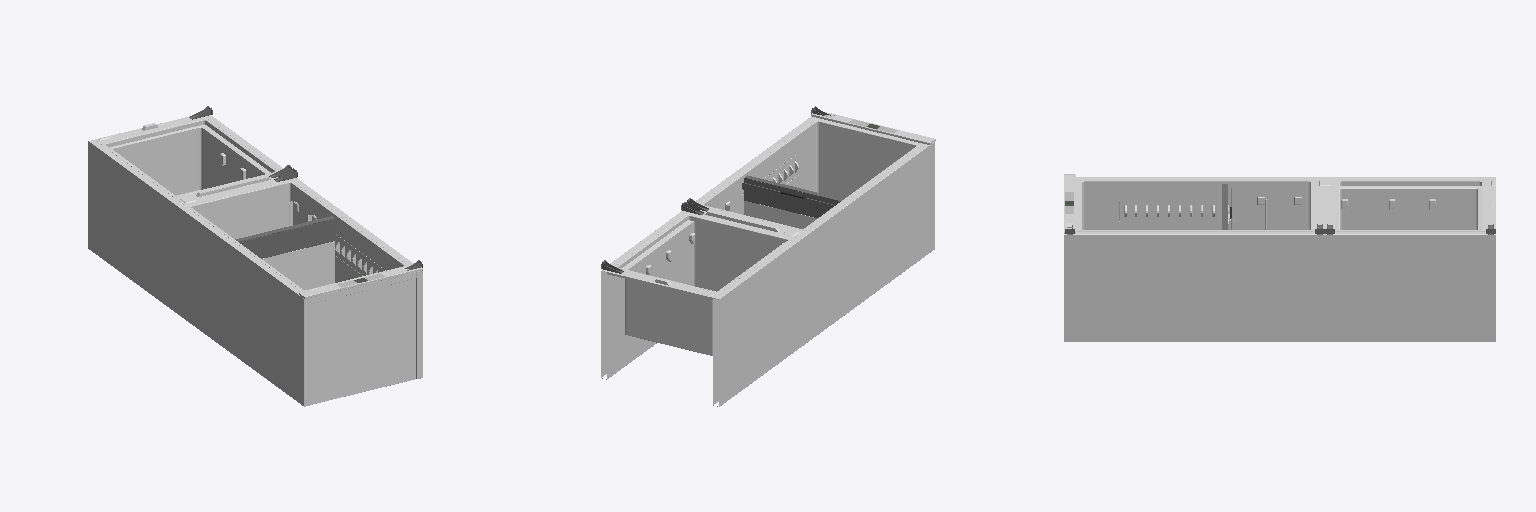
The picture shows the model from 3 angles: view 1: azimuth 30°, elevation 25°; view 2: azimuth 150°, elevation 25°; view 3: azimuth 270°, elevation 25°; orthographic projection.
Visible parts, largest first — view 1: SM_Fridge_Base; view 2: SM_Fridge_Base; view 3: SM_Fridge_Base.
Boxes of the visible parts, <box> form: SM_Fridge_Base: <box>88,106,422,406</box>; SM_Fridge_Base: <box>601,106,935,406</box>; SM_Fridge_Base: <box>1064,174,1495,341</box>.
Size of the model in its own units: 0.5588 by 0.5163 by 1.76.
Materials: 6 (4 with a texture image).